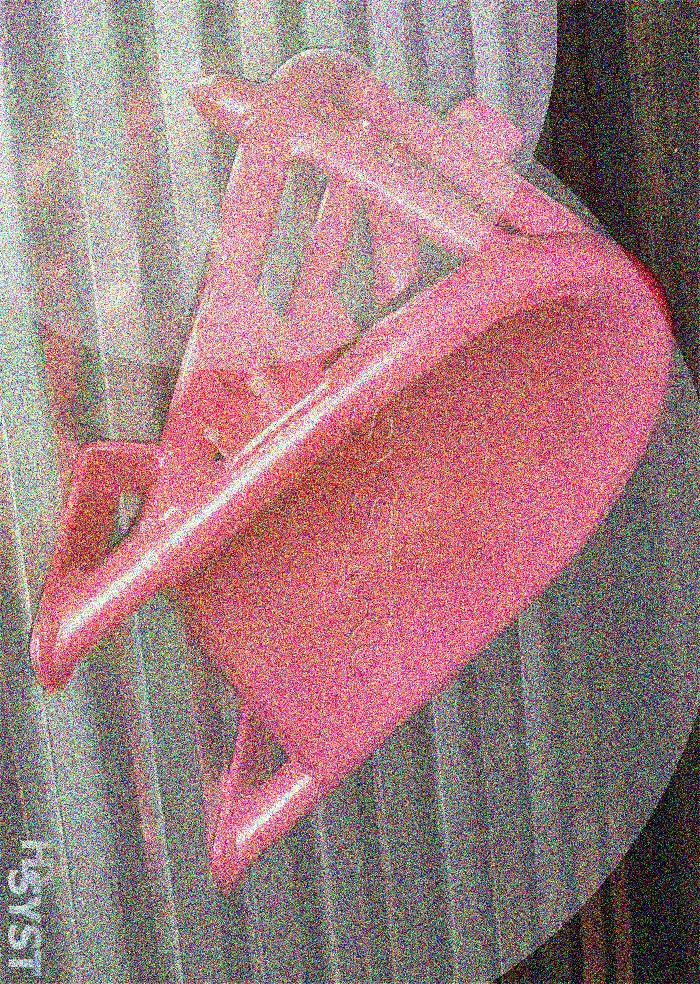chock: (24, 17, 687, 903)
